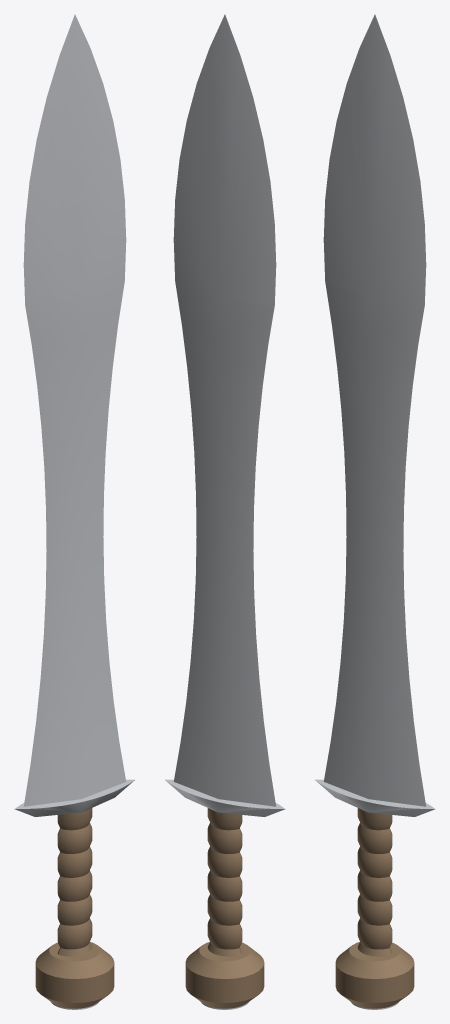
The model's file is weapon_bronze_sword.glb.
3 views of the same model, side by side, from view 1: azimuth 30°, elevation 25°; view 2: azimuth 150°, elevation 25°; view 3: azimuth 330°, elevation 25° (orthographic).
Visible parts, largest first — view 1: bronze_sword; view 2: bronze_sword; view 3: bronze_sword.
Boxes of the visible parts, x1,y1,x2,y2 form: bronze_sword: (14, 14, 134, 1009); bronze_sword: (165, 14, 285, 1009); bronze_sword: (315, 14, 435, 1009).
Size of the model in its own units: 0.1483 by 1.15 by 0.0835.
